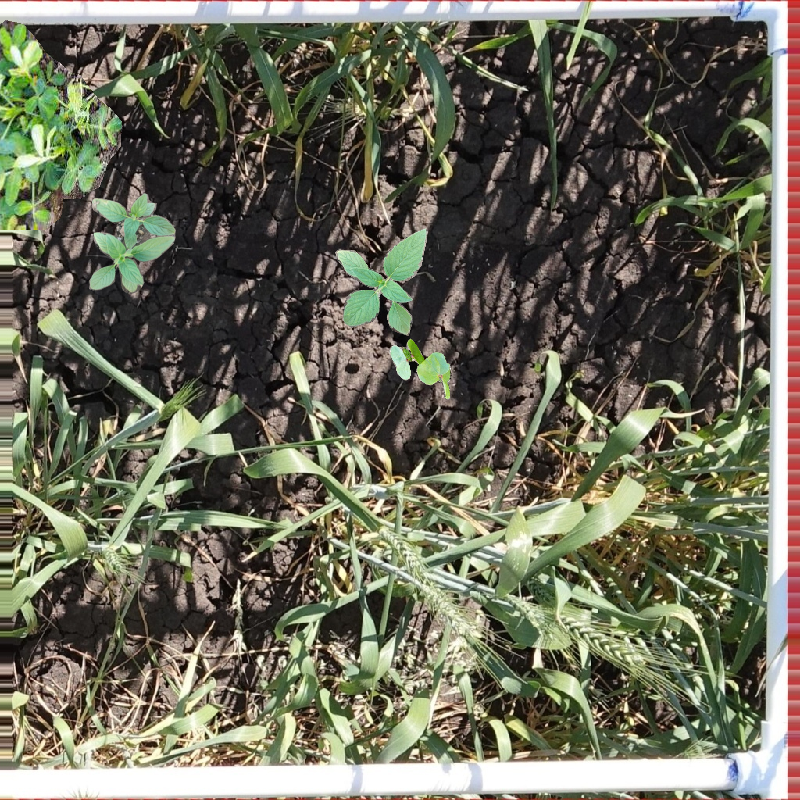spikelet: (559, 604, 651, 675), (411, 572, 483, 640), (95, 546, 131, 577), (332, 94, 372, 120)
weed: (1, 20, 123, 231), (334, 225, 434, 340), (89, 193, 176, 295), (381, 341, 461, 402)
